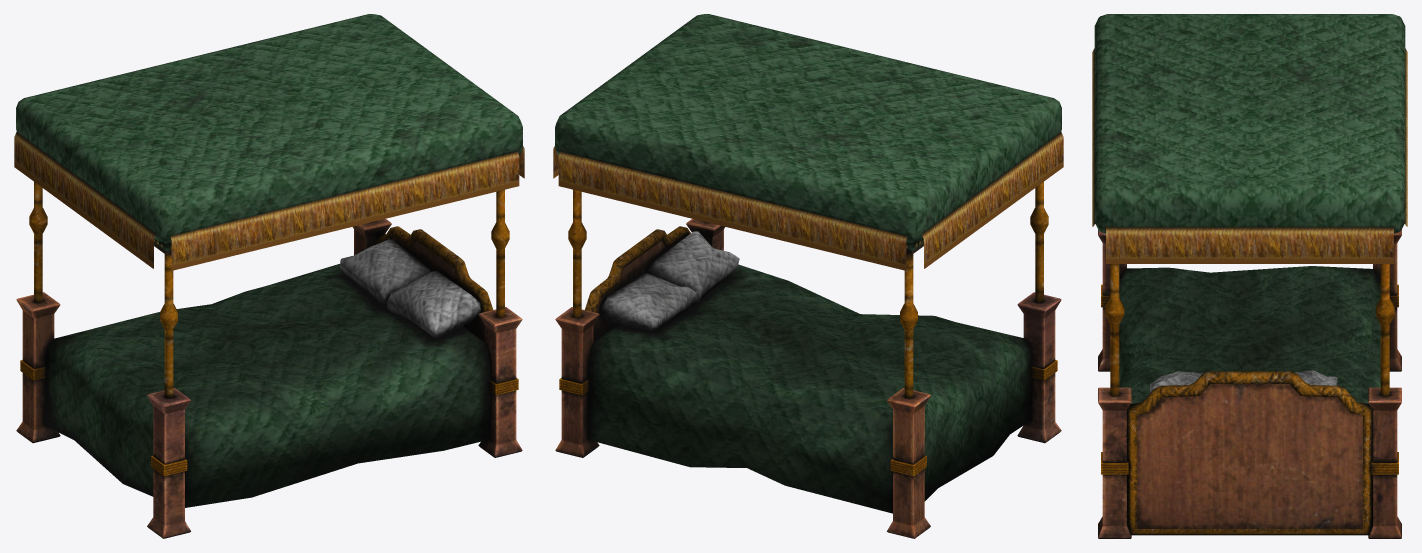
Rendered from bed_nice.dae.
3 views of the same model, side by side, from view 1: azimuth 30°, elevation 25°; view 2: azimuth 150°, elevation 25°; view 3: azimuth 270°, elevation 25° (orthographic). The views are drawn at different scales.
Visible parts, largest first — view 1: bed_nice_mesh; view 2: bed_nice_mesh; view 3: bed_nice_mesh.
Boxes of the visible parts, left/top/right/bottom form: bed_nice_mesh: left=14, top=14, right=524, bottom=538; bed_nice_mesh: left=553, top=14, right=1063, bottom=538; bed_nice_mesh: left=1092, top=14, right=1407, bottom=538.
Size of the model in its own units: 3.42 by 2.95 by 2.43.
